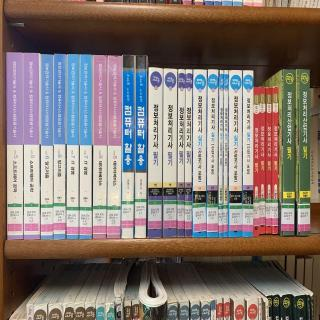book-spine: (6, 52, 23, 240), (24, 53, 40, 239), (107, 56, 122, 239), (93, 55, 107, 239), (121, 55, 135, 239), (148, 67, 163, 238), (280, 69, 295, 236), (53, 54, 66, 239), (66, 54, 79, 239), (134, 55, 147, 238), (163, 68, 177, 237), (193, 69, 207, 237), (41, 54, 53, 239), (80, 54, 92, 239), (229, 70, 242, 237), (297, 69, 310, 236), (207, 69, 219, 238), (242, 70, 253, 237), (178, 69, 185, 237), (253, 87, 260, 236), (186, 69, 192, 237), (266, 87, 272, 234), (219, 70, 224, 237), (260, 87, 265, 234), (273, 87, 278, 234), (224, 70, 228, 238)
